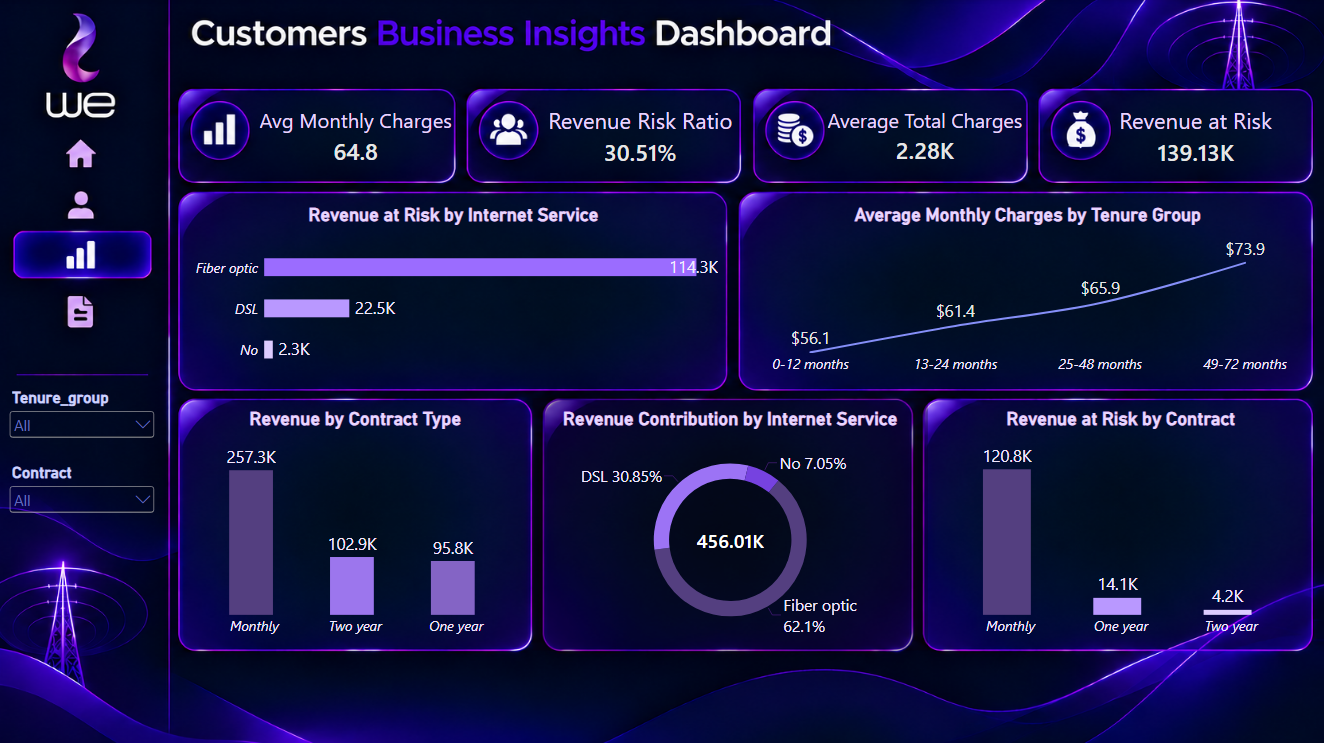

Layout of this report page (visuals, bound fields, positions):
{"tool":"powerbi","page":{"name":"Business Insights","canvas":[1920,1080],"ordinal":2},"visuals":[{"type":"cardVisual","fields":{"Data":["FactCustomer.Avg Monthly Charges"]},"box":[258.8,132.1,421.7,137.5],"z":0},{"type":"lineStackedColumnComboChart","title":"Revenue at Risk by Contract ","fields":{"Category":["DimContract.Contract Short"],"Y":["FactCustomer.Revenue at Risk"]},"box":[1344.6,579.1,559.2,365.6],"z":1000},{"type":"clusteredBarChart","title":"Revenue at Risk by Internet Service","fields":{"Category":["DimService.internet_service"],"Y":["FactCustomer.Revenue at Risk"]},"box":[258.5,284.9,798.1,281.1],"z":2000},{"type":"actionButton","box":[21.7,410.8,193.6,86.9],"z":3000},{"type":"actionButton","box":[21.7,269.6,197.3,67],"z":4000},{"type":"actionButton","box":[21.7,193.6,197.3,76],"z":5000},{"type":"slicer","fields":{"Values":["DimCustomer.city"]},"box":[10.9,564.6,219,108.6],"z":6000},{"type":"cardVisual","fields":{"Data":["FactCustomer.Revenue at Risk Ratio"]},"box":[680.4,132.1,412.6,137.5],"z":7000},{"type":"cardVisual","fields":{"Data":["FactCustomer.Revenue at Risk"]},"box":[1507.4,132.1,396.3,137.5],"z":8000},{"type":"cardVisual","fields":{"Data":["FactCustomer.Average Total Charges"]},"box":[1094.8,132.1,412.6,137.5],"z":9000},{"type":"lineStackedColumnComboChart","title":"Revenue by Contract Type","fields":{"Category":["DimContract.Contract Short"],"Y":["FactCustomer.Total Revenue"]},"box":[258.8,579.1,513.9,365.6],"z":10000},{"type":"donutChart","title":"Revenue Contribution by Internet Service","fields":{"Category":["DimService.internet_service"],"Y":["FactCustomer.Total Revenue"]},"box":[772.7,579.1,571.9,365.6],"z":11000},{"type":"lineChart","title":"Average Monthly Charges by Tenure Group","fields":{"Category":["FactCustomer.tenure_group"],"Y":["FactCustomer.Avg Monthly Charges"]},"box":[1074.9,284.1,828.8,280.5],"z":12000},{"type":"slicer","fields":{"Values":["DimContract.contract"]},"box":[10.9,673.2,219,108.6],"z":13000}]}

Visuals, with their boxes on the page's 1920x1080 design canvas (x1, y1, x2, y2). These are canvas units, not pixel positions in the 1324x743 screenshot, which may show the page scaled, cropped or inside an application window:
cardVisual - FactCustomer.Avg Monthly Charges: rect(259, 132, 680, 270)
"Revenue at Risk by Contract " lineStackedColumnComboChart: rect(1345, 579, 1904, 945)
"Revenue at Risk by Internet Service" clusteredBarChart: rect(258, 285, 1057, 566)
actionButton: rect(22, 411, 215, 498)
actionButton: rect(22, 270, 219, 337)
actionButton: rect(22, 194, 219, 270)
slicer - DimCustomer.city: rect(11, 565, 230, 673)
cardVisual - FactCustomer.Revenue at Risk Ratio: rect(680, 132, 1093, 270)
cardVisual - FactCustomer.Revenue at Risk: rect(1507, 132, 1904, 270)
cardVisual - FactCustomer.Average Total Charges: rect(1095, 132, 1507, 270)
"Revenue by Contract Type" lineStackedColumnComboChart: rect(259, 579, 773, 945)
"Revenue Contribution by Internet Service" donutChart: rect(773, 579, 1345, 945)
"Average Monthly Charges by Tenure Group" lineChart: rect(1075, 284, 1904, 565)
slicer - DimContract.contract: rect(11, 673, 230, 782)
